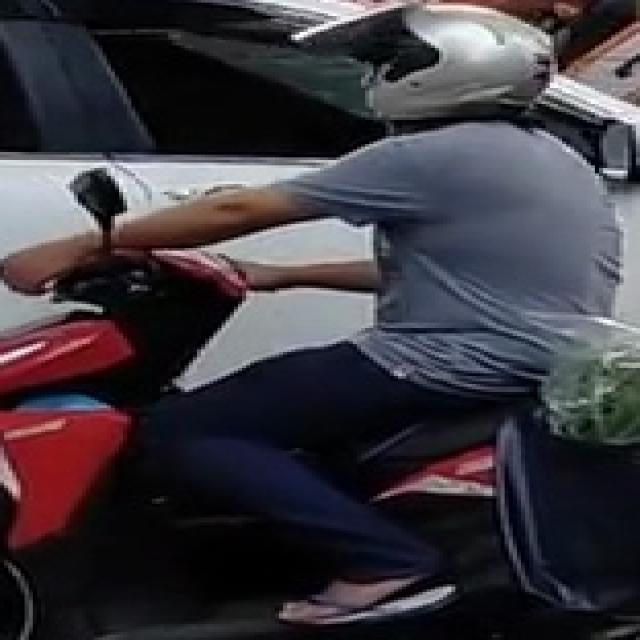door: (0, 0, 636, 637)
helmet: (357, 3, 554, 120)
